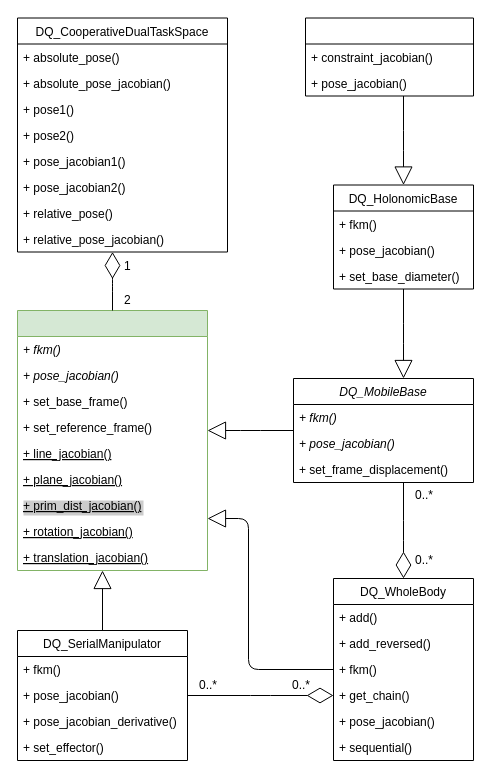
The diagram is 491 pixels wide and 780 high, and some of its shapes have lost their labels. Here are the shapes that lost their labels. From the top down, the box of each, then its label:
(304, 17, 474, 96): DQ_DifferentialDriveRobot
(16, 310, 208, 570): DQ_Kinematics
